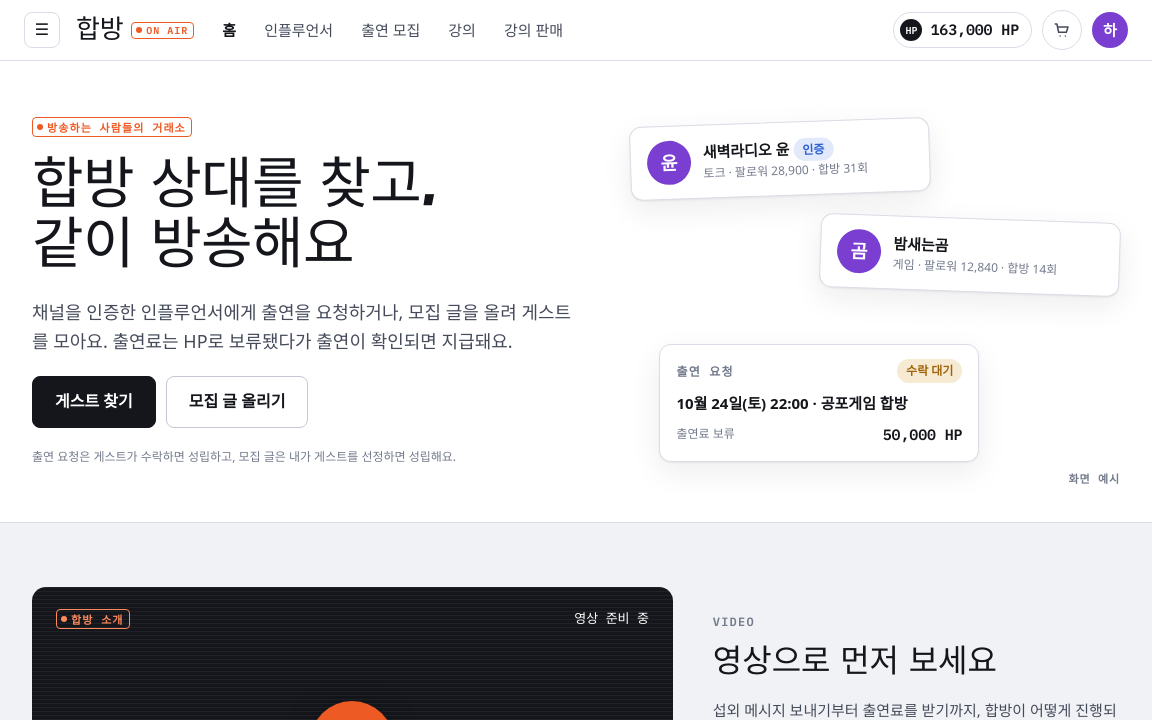
홈 › 홈은 맨 위 가로 메뉴를 쓰고, 둘러보기 메뉴는 햄버거로 연다
This screenshot has width=1152, height=720.
Check: the links read "홈", "인플루언서", "출연 모집", "강의", "강의 판매", in this order, box [222,20,236,40]; [264,20,333,40]; [361,20,420,40]; [448,20,476,40]; [504,20,563,40]
Click the button named "메뉴 열기" at point(42, 30), box [24,12,60,48]
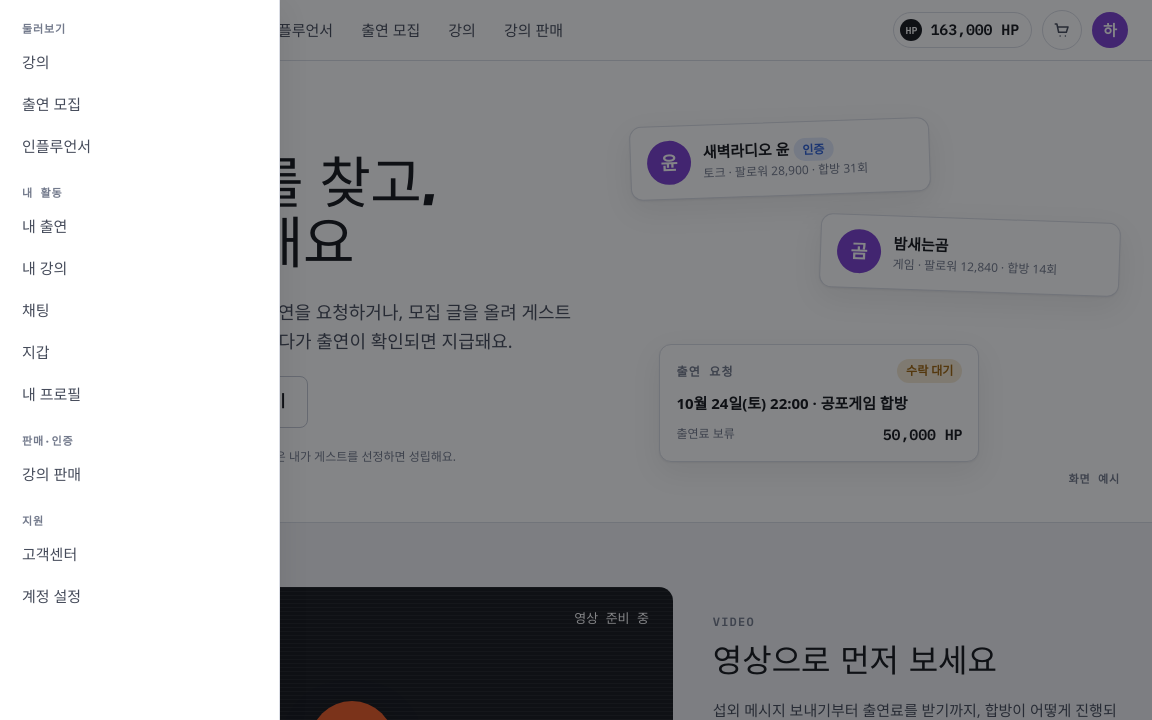
Check: the button named "메뉴 닫기" is expanded, box [24,12,60,48]
